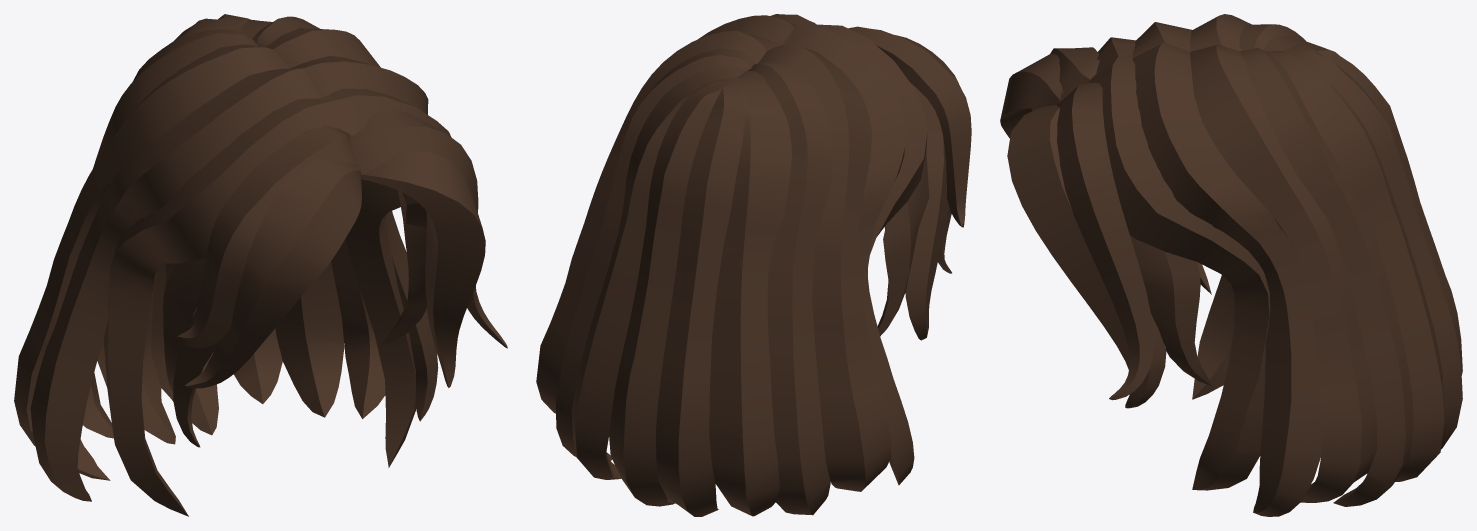
File: hair-long.glb
3 renders of one model, left to right at view 1: azimuth 30°, elevation 25°; view 2: azimuth 150°, elevation 25°; view 3: azimuth 270°, elevation 25°, orthographic. The views are drawn at different scales.
Visible parts, largest first — view 1: Hair_Long; view 2: Hair_Long; view 3: Hair_Long.
Boxes of the visible parts, bbox=[...] form: Hair_Long: bbox=[14, 14, 507, 516]; Hair_Long: bbox=[536, 14, 971, 516]; Hair_Long: bbox=[1000, 14, 1462, 516].
Size of the model in its own units: 0.2447 by 0.2764 by 0.2704.
